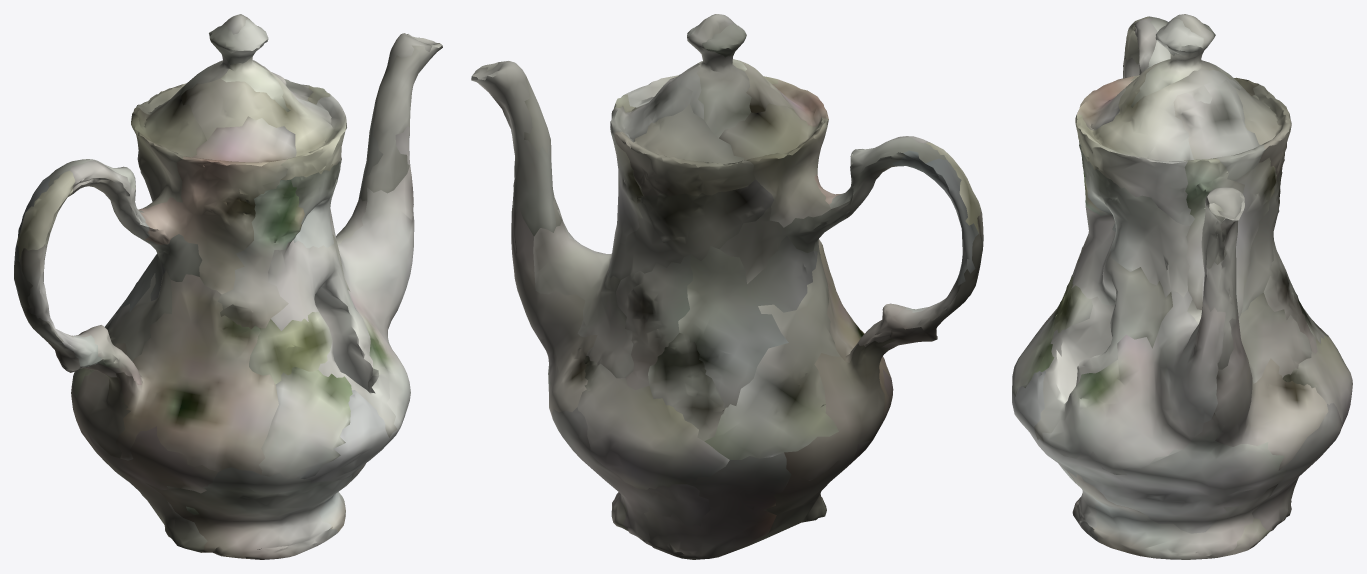
Rendered from teapot.glb.
3 renders of one model, left to right at view 1: azimuth 30°, elevation 25°; view 2: azimuth 150°, elevation 25°; view 3: azimuth 270°, elevation 25°, orthographic.
Visible parts, largest first — view 1: Object_4; view 2: Object_4; view 3: Object_4.
Part boxes in pixels (x1,y1,x2,y2): Object_4: (14,14,442,559); Object_4: (471,14,983,559); Object_4: (1012,14,1352,559).
Size of the model in its own units: 0.2281 by 0.2361 by 0.1457.
1 material, 1 textured.
